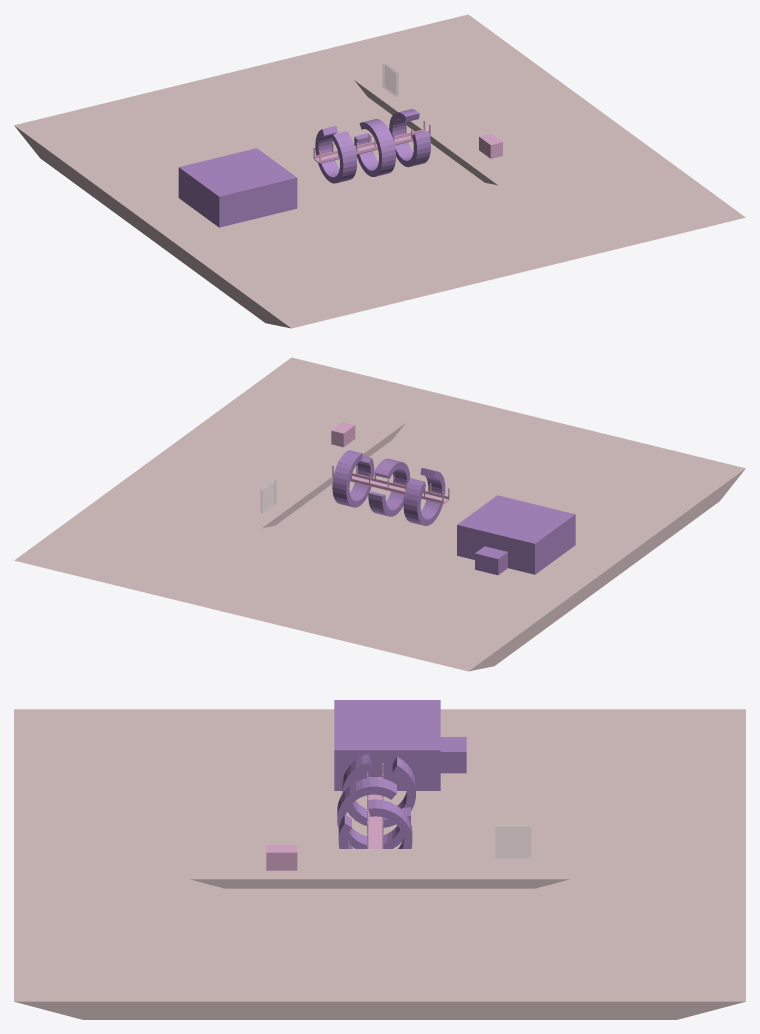
File: mapconcept.glb
3 renders of one model, top to bottom at view 1: azimuth 30°, elevation 25°; view 2: azimuth 150°, elevation 25°; view 3: azimuth 270°, elevation 25°, orthographic. The views are drawn at different scales.
Parts seen in each view (by area): view 1: Cube.001, Cube, Cube.008, Circle.001, pont1; view 2: Cube.001, Cube, Cube.008, Circle.001, pont1, Cube.002; view 3: Cube.001, Cube, Cube.008, Circle.001, Cube.038, Cube.002, Cube.009, pont1.
Boxes of the visible parts, box(x1,y1,x2,y2) form: Cube.001: box(14, 14, 745, 328); Cube: box(354, 68, 545, 185); Cube.008: box(178, 148, 297, 227); Circle.001: box(315, 109, 430, 183); pont1: box(313, 120, 430, 163); Cube.001: box(14, 357, 745, 671); Cube: box(214, 411, 405, 528); Cube.008: box(457, 495, 575, 574); Circle.001: box(332, 450, 445, 525); pont1: box(332, 461, 449, 504); Cube.002: box(475, 546, 507, 575); Cube.001: box(14, 709, 745, 1019); Cube: box(189, 849, 570, 888); Cube.008: box(334, 700, 440, 790); Circle.001: box(337, 753, 415, 848); Cube.038: box(495, 825, 530, 858); Cube.002: box(440, 737, 466, 773); Cube.009: box(266, 844, 297, 870); pont1: box(367, 763, 383, 848).
Size of the model in its own units: 445 by 62.63 by 471.
